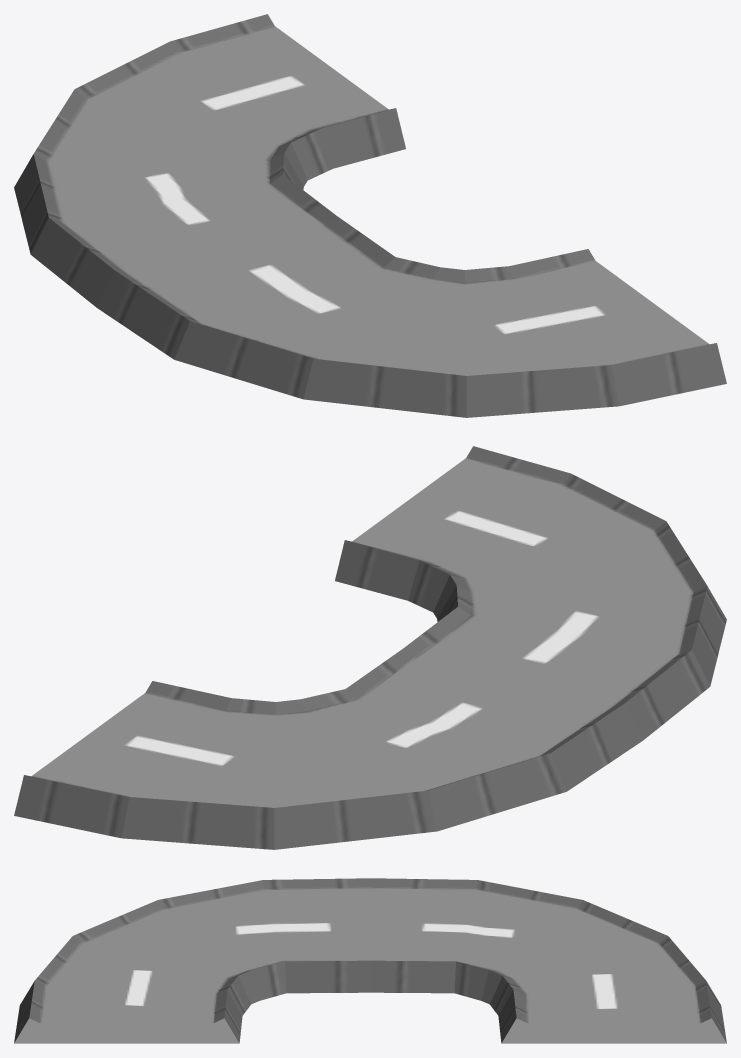
File: co_Street_Asphalted_B_CurveU.fbx
3 views of the same model, one above another, from view 1: azimuth 30°, elevation 25°; view 2: azimuth 150°, elevation 25°; view 3: azimuth 270°, elevation 25° (orthographic). The views are drawn at different scales.
Visible parts, largest first — view 1: Street_Asphalted_B_CurveU; view 2: Street_Asphalted_B_CurveU; view 3: Street_Asphalted_B_CurveU.
Boxes of the visible parts, bbox=[...] form: Street_Asphalted_B_CurveU: bbox=[14, 14, 726, 417]; Street_Asphalted_B_CurveU: bbox=[14, 446, 726, 849]; Street_Asphalted_B_CurveU: bbox=[14, 878, 726, 1043].
Size of the model in its own units: 1535 by 125 by 3160.
